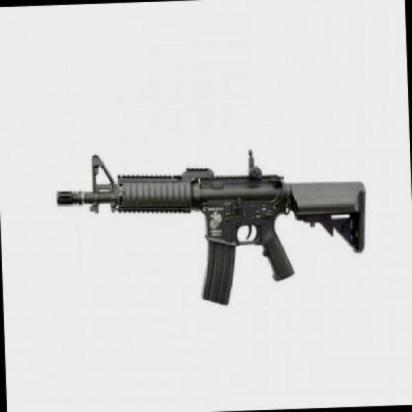Gun: (51, 132, 372, 318)
